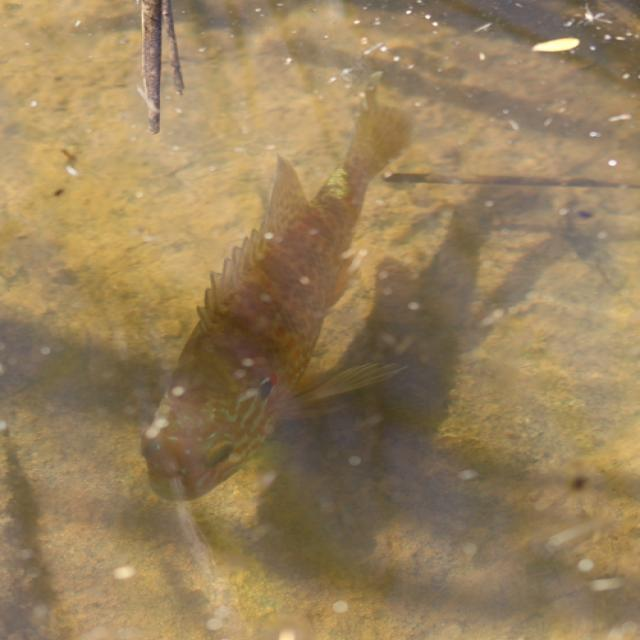Gunes Levregi: (136, 90, 434, 505)
